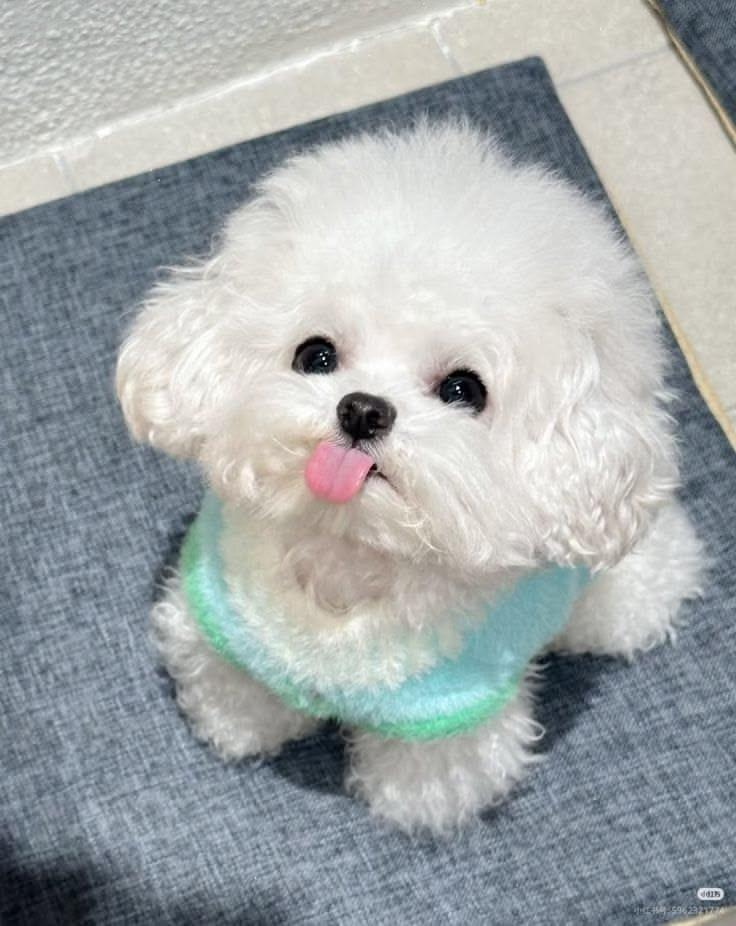puppy-dog: (112, 104, 711, 842)
